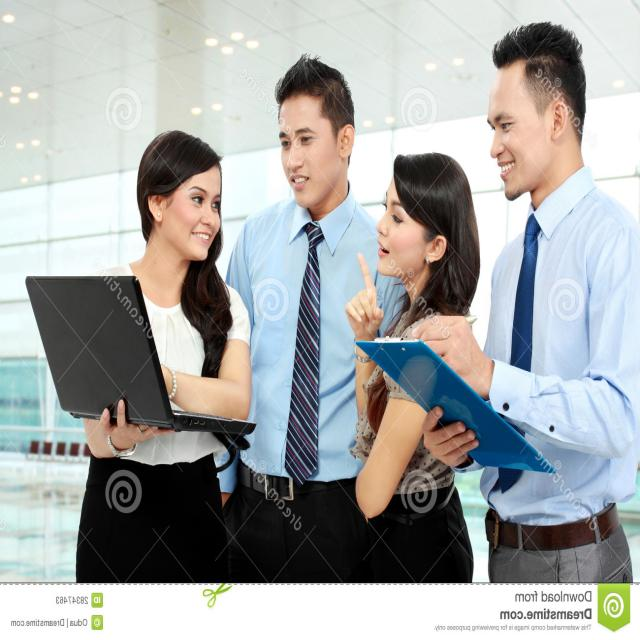adult: (414, 24, 632, 575), (220, 57, 400, 582), (79, 134, 250, 586), (348, 152, 485, 584)
